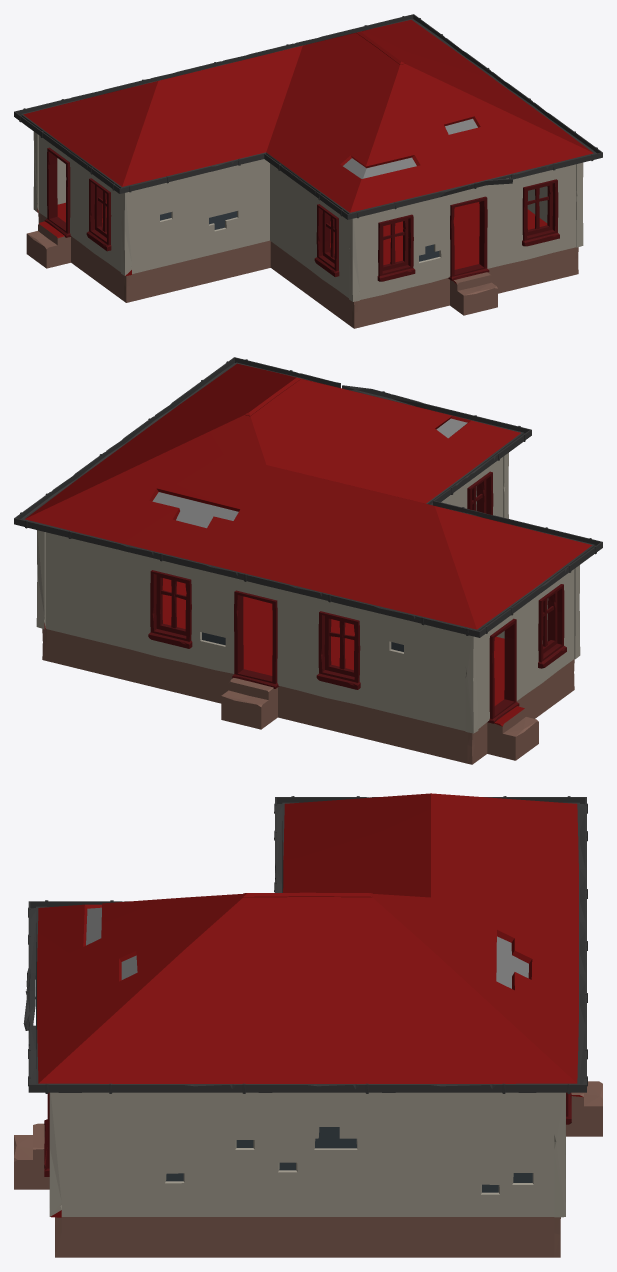
Rendered from forryan2.fbx.
The picture shows the model from 3 angles, top to bottom: view 1: azimuth 30°, elevation 25°; view 2: azimuth 150°, elevation 25°; view 3: azimuth 270°, elevation 25°; orthographic projection. The views are drawn at different scales.
Visible parts, largest first — view 1: SM_PolygonApocalypse_Bld_House_01; view 2: SM_PolygonApocalypse_Bld_House_01; view 3: SM_PolygonApocalypse_Bld_House_01.
Part boxes in pixels (box(x1,y1,x2,y2)): SM_PolygonApocalypse_Bld_House_01: box(14, 14, 602, 328); SM_PolygonApocalypse_Bld_House_01: box(14, 357, 602, 764); SM_PolygonApocalypse_Bld_House_01: box(14, 793, 602, 1257).
Bounding box in the file's own units: 1417 × 636 × 1196.
